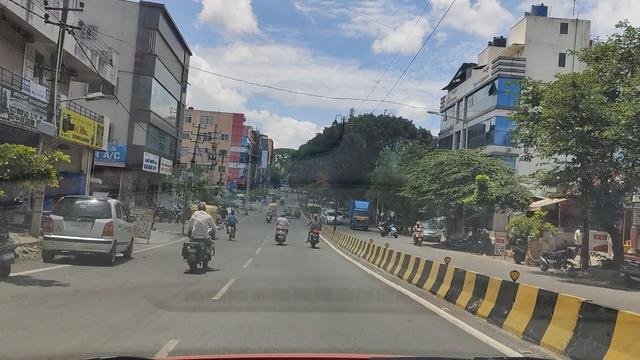LMV: (40, 189, 138, 273), (179, 199, 220, 282), (308, 205, 326, 253), (274, 210, 293, 247)
